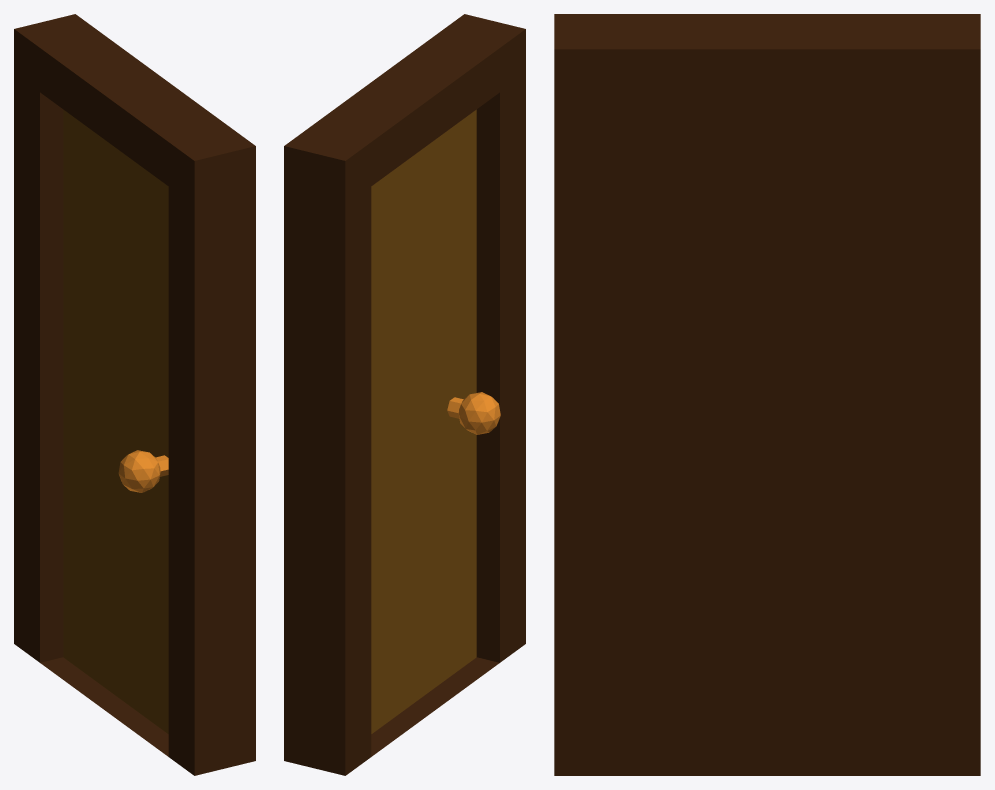
The model's file is Door.fbx.
The picture shows the model from 3 angles, left to right: view 1: azimuth 30°, elevation 25°; view 2: azimuth 150°, elevation 25°; view 3: azimuth 270°, elevation 25°; orthographic projection. The views are drawn at different scales.
Parts seen in each view (by area): view 1: Door; view 2: Door; view 3: Door.
Boxes of the visible parts, <box> form: Door: <box>14,14,255,775</box>; Door: <box>284,14,525,775</box>; Door: <box>554,14,980,775</box>.
Size of the model in its own units: 79.34 by 559 by 297.
